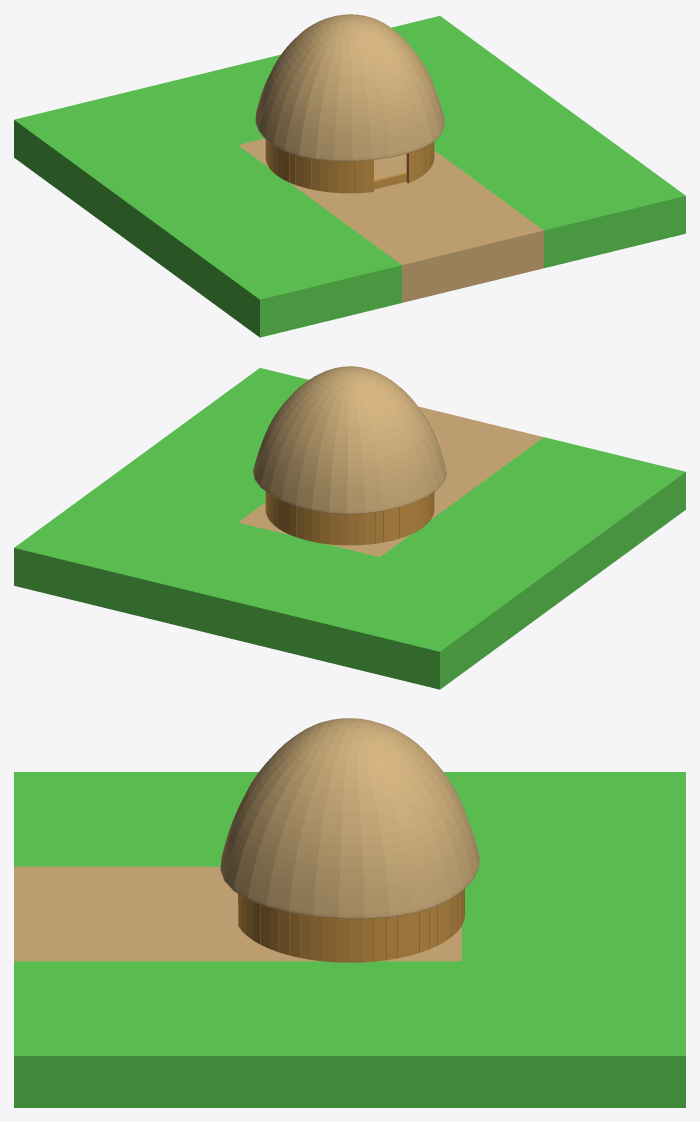
File: Hanoi.fbx
3 views of the same model, one above another, from view 1: azimuth 30°, elevation 25°; view 2: azimuth 150°, elevation 25°; view 3: azimuth 270°, elevation 25° (orthographic). The views are drawn at different scales.
Visible parts, largest first — view 1: Cube.016, Cube.017, Cube.019; view 2: Cube.016, Cube.017, Cube.019; view 3: Cube.016, Cube.017, Cube.019.
Part boxes in pixels (x1,y1,x2,y2): Cube.016: (14, 16, 685, 337); Cube.017: (255, 14, 444, 161); Cube.019: (265, 139, 434, 193); Cube.016: (14, 368, 685, 689); Cube.017: (253, 366, 446, 514); Cube.019: (265, 491, 434, 545); Cube.016: (14, 772, 685, 1107); Cube.017: (220, 718, 479, 919); Cube.019: (238, 889, 464, 962).
Size of the model in its own units: 2354 by 925 by 2354.
